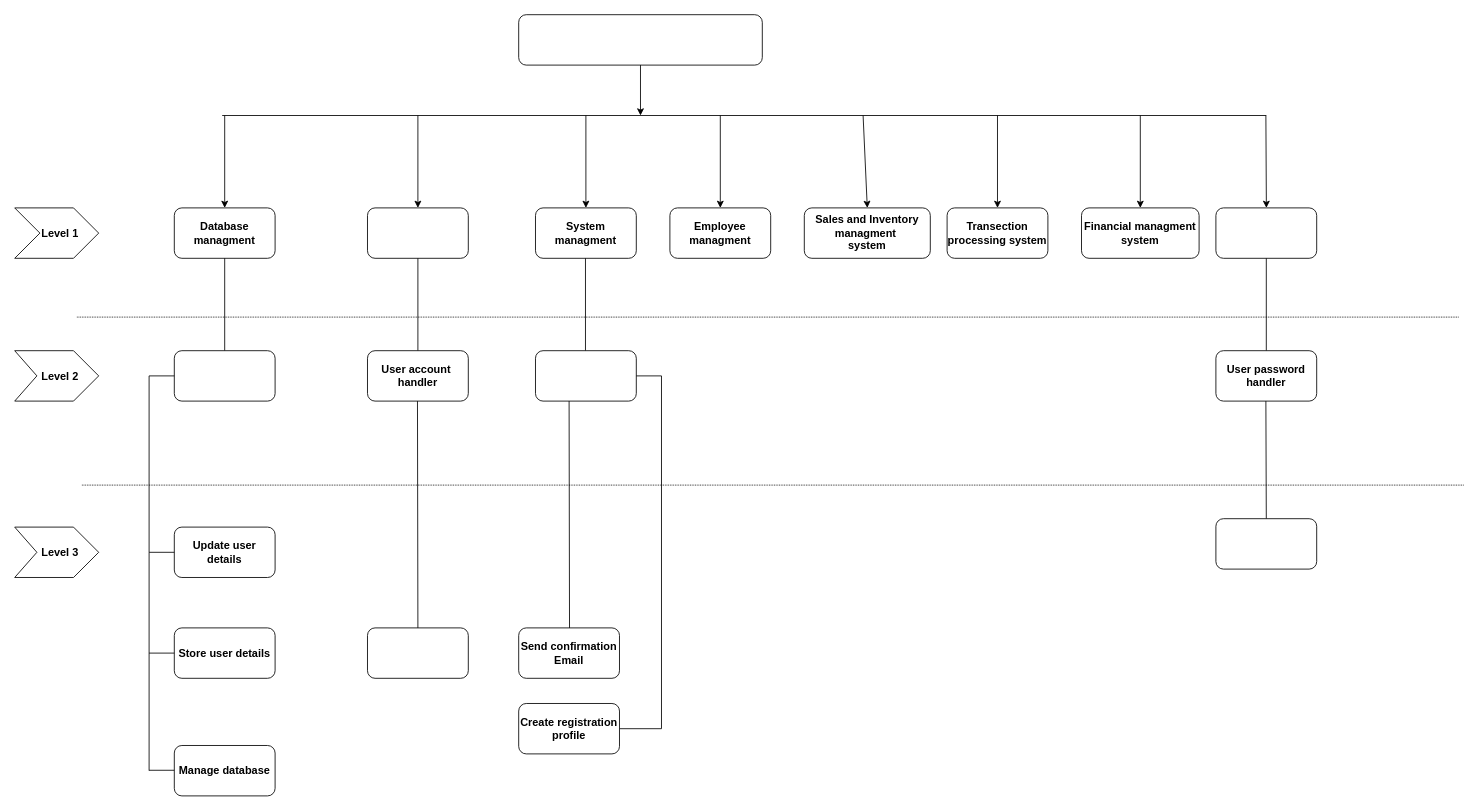
The diagram is 1480 pixels wide and 811 high, and some of its shapes have lost their labels. The shapes that lost their labels are listed below. From the top down, each one's centre as x and y in pixels, then its label:
At point (640, 39): "IslandEstates.lk Land sales managment system".
At point (417, 232): "User managment".
At point (1266, 232): "security managment system".
At point (224, 375): "Database handler".
At point (585, 375): "User registration handler".
At point (1266, 543): "Validate user password".
At point (417, 652): "Activate user account".
